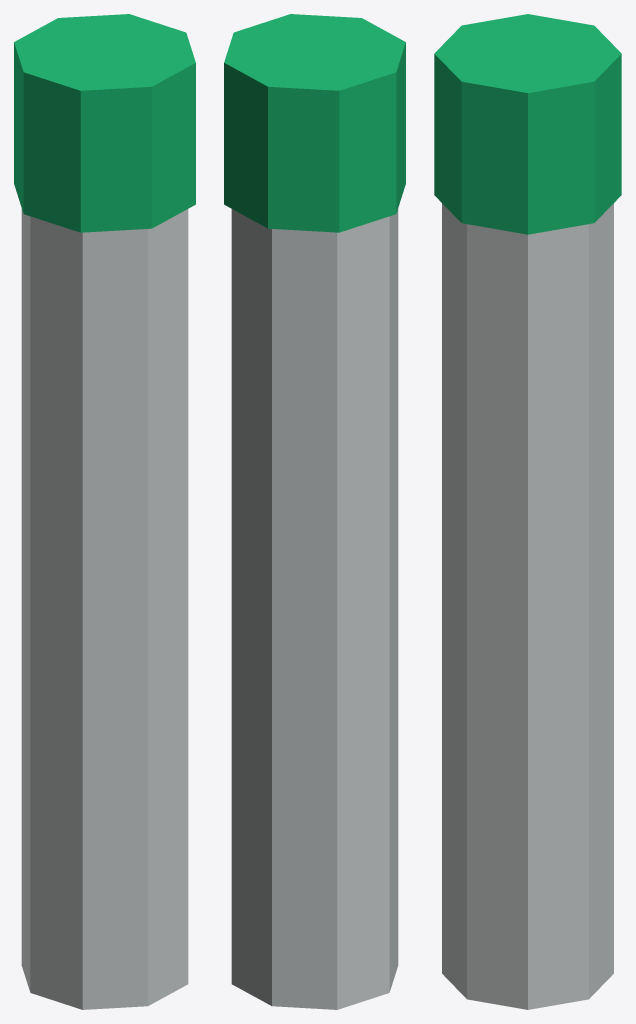
File: item_F1_Medpen.obj
3 views of the same model, side by side, from view 1: azimuth 30°, elevation 25°; view 2: azimuth 150°, elevation 25°; view 3: azimuth 270°, elevation 25° (orthographic).
Parts seen in each view (by area): view 1: Item_F1_Medpen, Item_F1_Medpen_Cap; view 2: Item_F1_Medpen, Item_F1_Medpen_Cap; view 3: Item_F1_Medpen, Item_F1_Medpen_Cap.
Part boxes in pixels (box(x1,y1,x2,y2)): Item_F1_Medpen: box(21, 208, 188, 1009); Item_F1_Medpen_Cap: box(14, 14, 195, 232); Item_F1_Medpen: box(231, 208, 398, 1009); Item_F1_Medpen_Cap: box(224, 14, 405, 232); Item_F1_Medpen: box(442, 203, 613, 1009); Item_F1_Medpen_Cap: box(434, 14, 621, 234).
Size of the model in its own units: 0.024 by 0.13 by 0.024.
